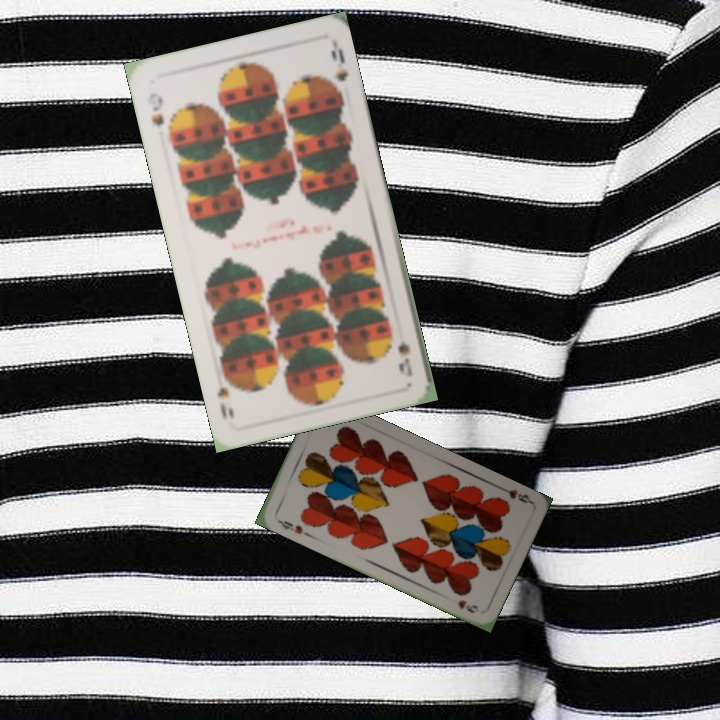H9: (495, 482, 534, 506), (273, 515, 311, 538)
S9: (143, 89, 167, 130), (394, 336, 415, 380)
